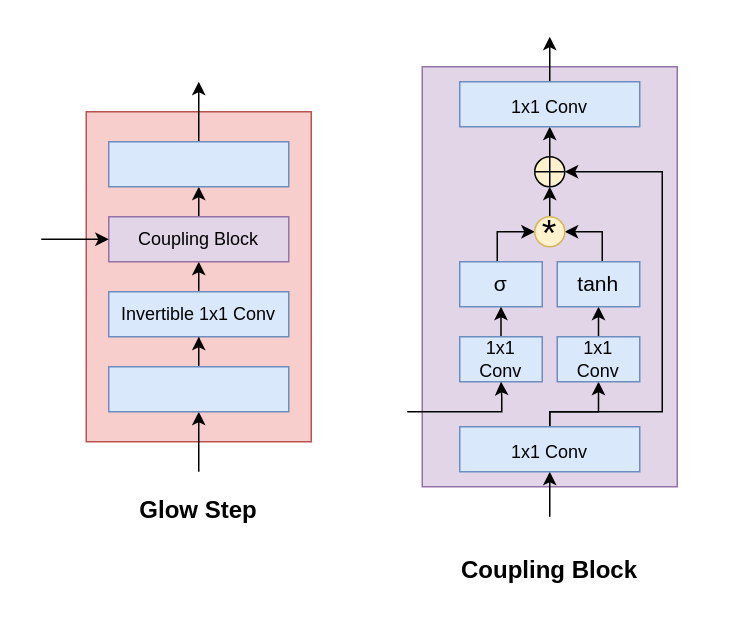
Image size: 747x618. Some labels were removed from this diagram. Each missing label, with the centre of its shape:
"Actnorm" belongs at (x=198, y=388).
"Affine Transform" belongs at (x=198, y=163).
